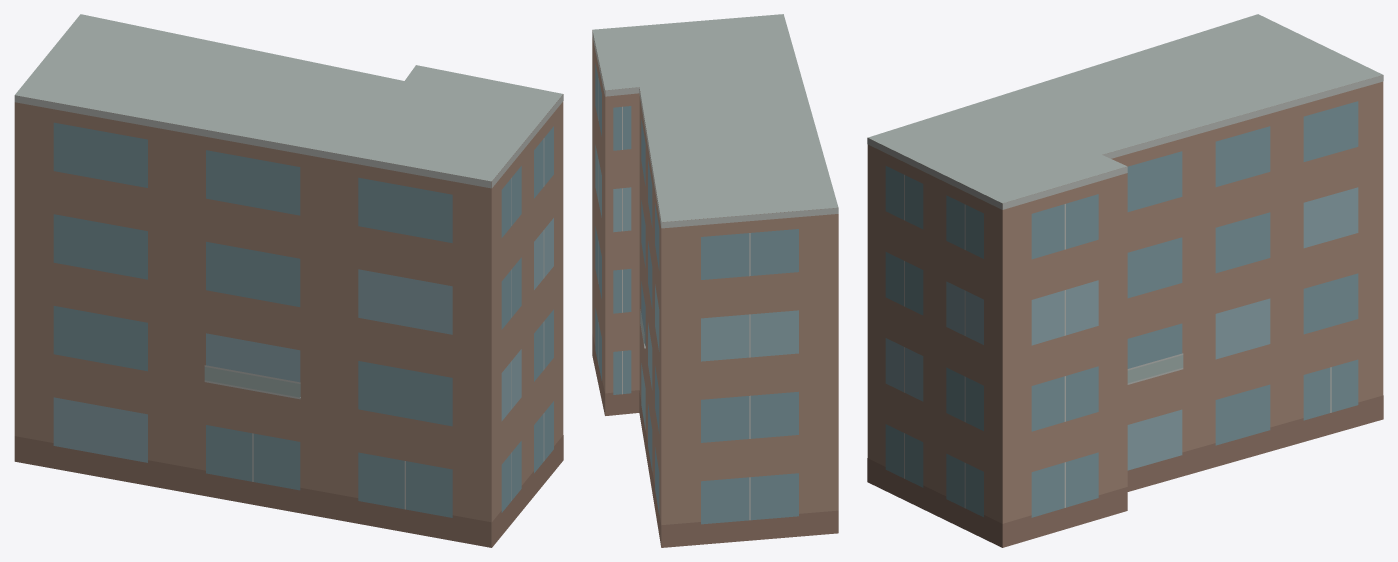
File: survey-upis-32997629.glb
3 renders of one model, left to right at view 1: azimuth 30°, elevation 25°; view 2: azimuth 150°, elevation 25°; view 3: azimuth 270°, elevation 25°, orthographic. The views are drawn at different scales.
Parts seen in each view (by area): view 1: survey-upis-32997629.tmp; view 2: survey-upis-32997629.tmp; view 3: survey-upis-32997629.tmp.
Part boxes in pixels (x1,y1,x2,y2): survey-upis-32997629.tmp: (14, 14, 563, 547); survey-upis-32997629.tmp: (592, 14, 838, 547); survey-upis-32997629.tmp: (867, 14, 1383, 547).
Size of the model in its own units: 15.03 by 12.74 by 17.3.
